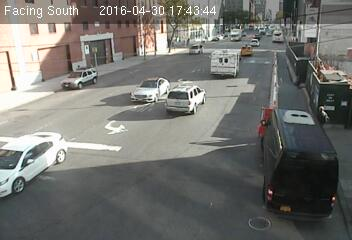neg: (165, 89, 186, 117), (105, 114, 121, 134)
pos: (313, 102, 331, 126)
